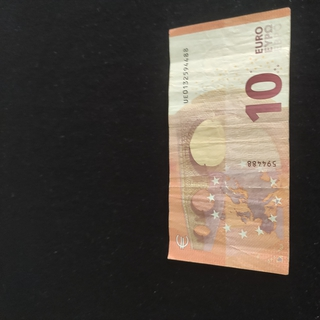10EUROBack: (167, 7, 291, 276)
